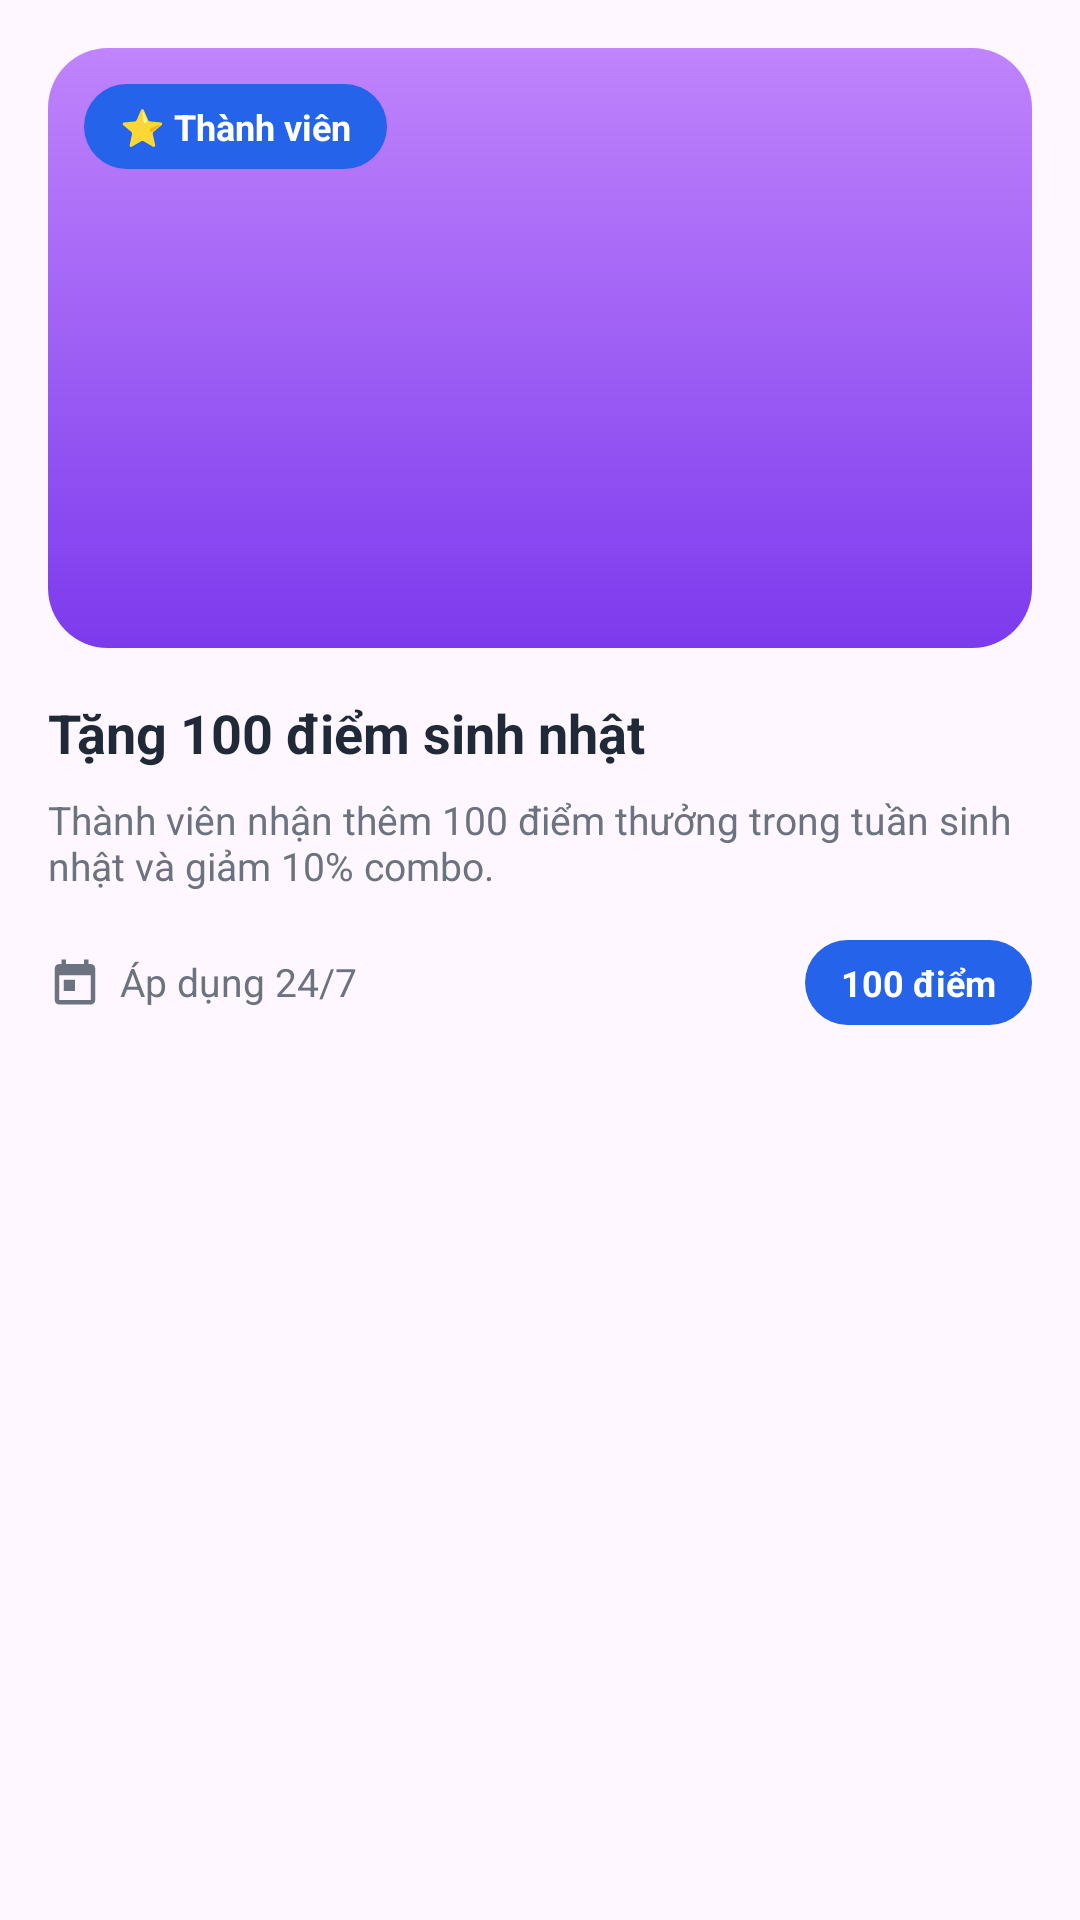

Icons on this 1080*1920 Android screen, each with its box as (x1, y1, x2, y2):
calendar: (54, 959, 96, 1005)
